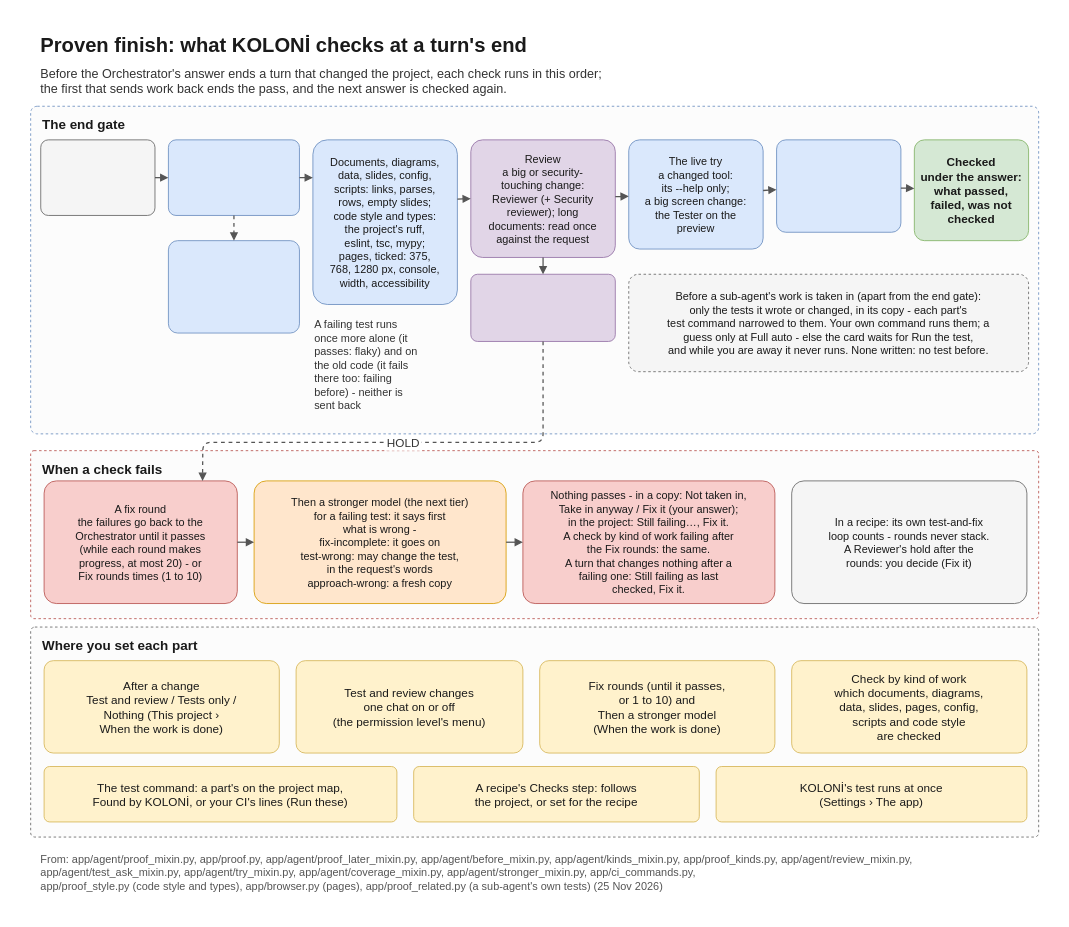
Image size: 1069x927. Some labels were removed from this diagram. Here are the shapes that lost their labels. From the top down, the centre of each, then its label:
point 97,177: The Orchestrator's answer
point 233,177: Tests related tests first, while you wait
point 838,185: A test for the change (ticked) code changed and no test: asked once
point 233,286: The whole suite goes on after the answer (its result later, on the node)
point 542,307: MERGE: it stands HOLD: its blocking findings go back
